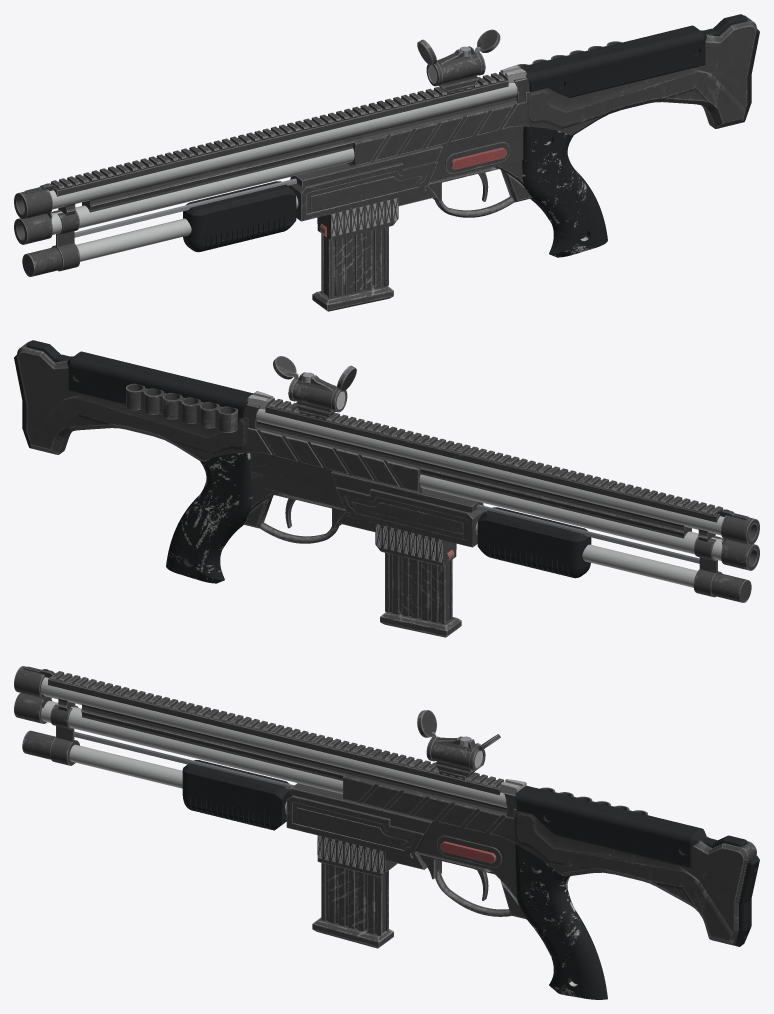
3 renders of one model, top to bottom at view 1: azimuth 30°, elevation 25°; view 2: azimuth 150°, elevation 25°; view 3: azimuth 330°, elevation 25°, orthographic.
Parts seen in each view (by area): view 1: Weapon_Baked; view 2: Weapon_Baked; view 3: Weapon_Baked.
Part boxes in pixels (left/top/right/bottom): Weapon_Baked: left=14, top=14, right=759, bottom=311; Weapon_Baked: left=14, top=340, right=759, bottom=637; Weapon_Baked: left=14, top=666, right=759, bottom=999.
Size of the model in its own units: 838 by 270 by 46.32.
Materials: 1 (1 with a texture image).
